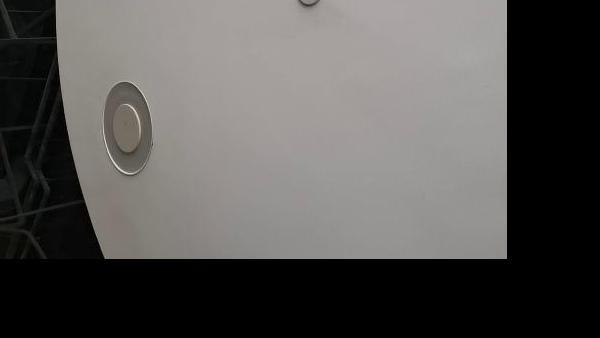light_off: (89, 59, 176, 197)
